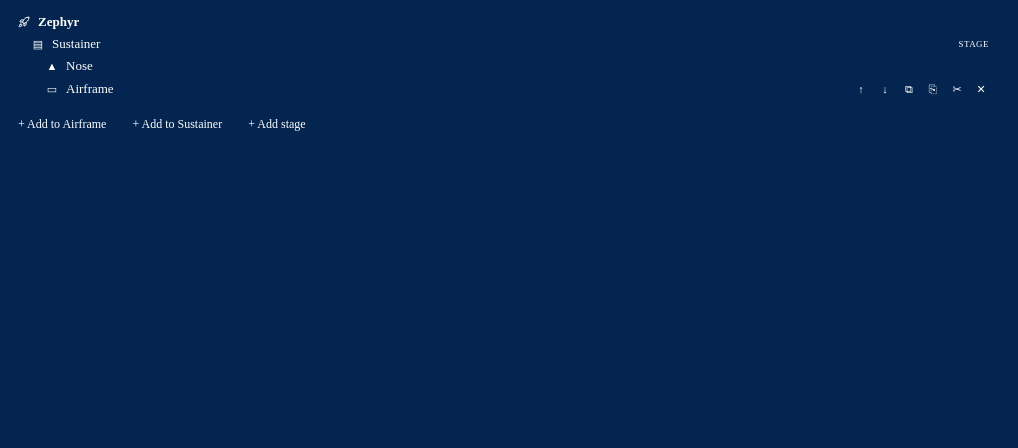
Test case: the Add buttons are disclosures (audit 2026-09-22, row 462) › say whether their menu is open
Click the button "+ Add to Airframe": (62, 124) [8,113,116,136]
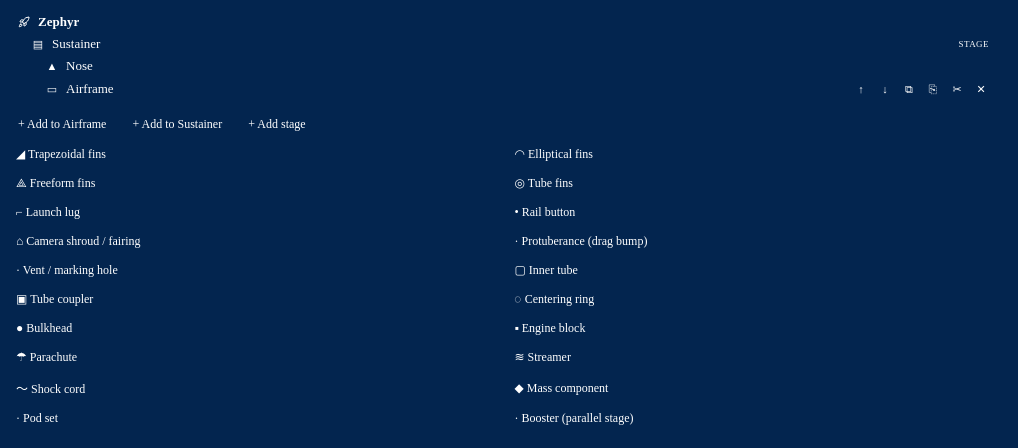
Expected: the element with class "add-menu" is shown
